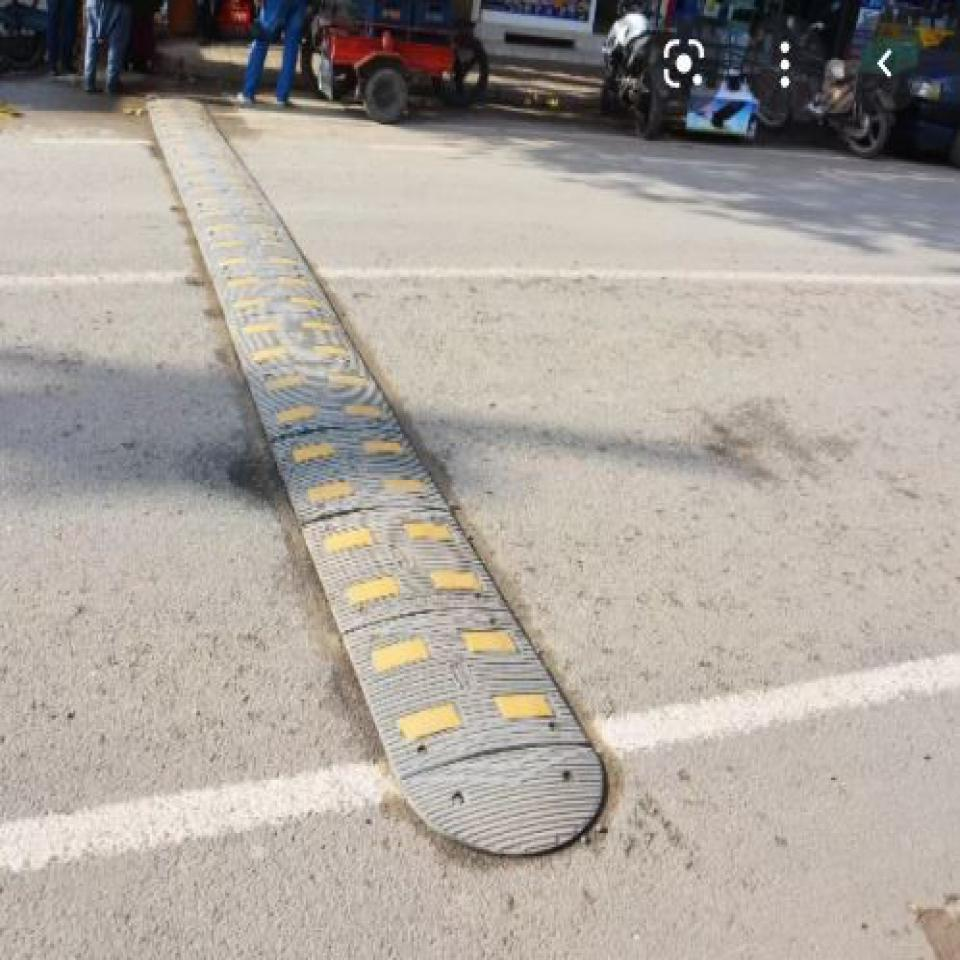Speed_Breaker: (125, 96, 620, 859), (142, 88, 609, 862)
